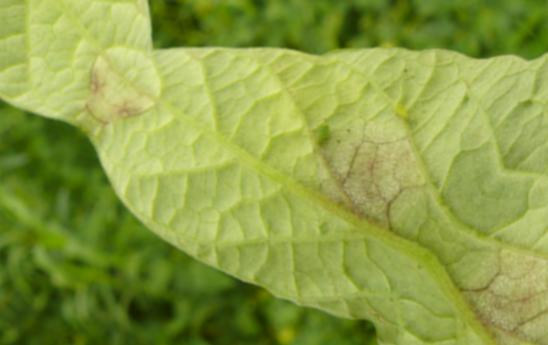Tomato leaf late blight: (55, 0, 548, 345)
